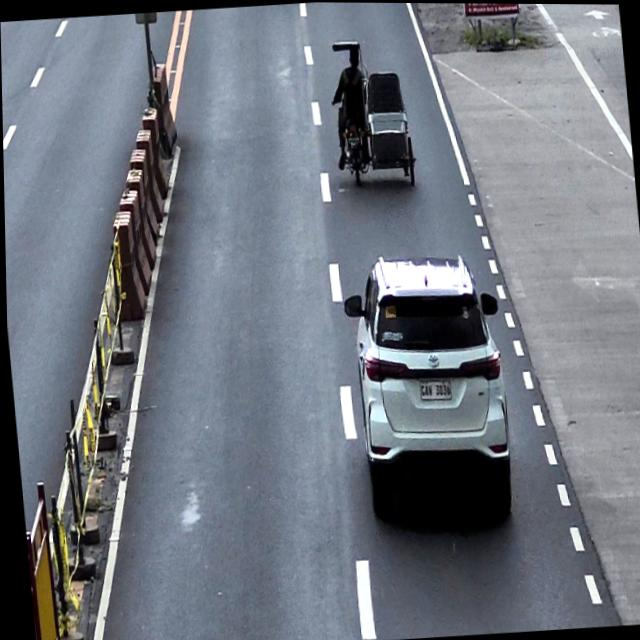Car: (337, 245, 514, 525)
License-Plate: (415, 374, 451, 401)
Tricycle: (325, 35, 417, 190)
